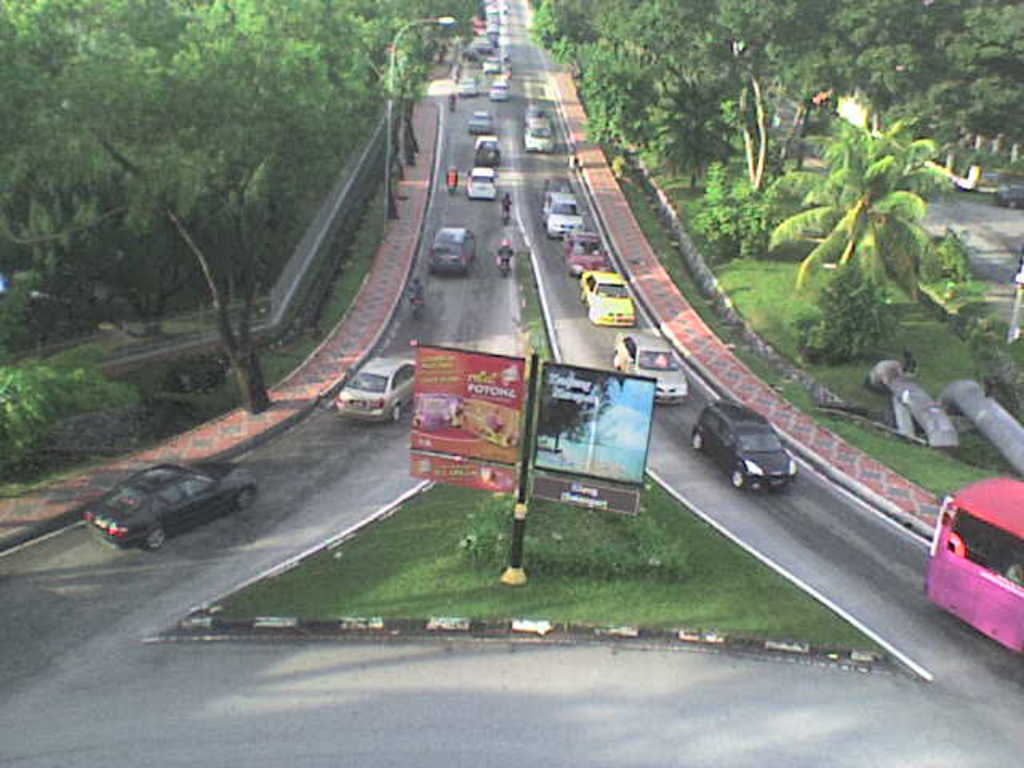Car: (84, 460, 262, 552), (689, 403, 796, 489), (336, 353, 419, 416), (614, 331, 688, 399), (580, 270, 635, 327), (425, 225, 481, 275), (563, 230, 609, 278), (539, 192, 582, 235), (462, 166, 497, 200), (523, 116, 555, 150), (475, 132, 496, 166), (489, 73, 510, 102), (468, 110, 492, 131), (457, 75, 475, 94), (480, 56, 497, 73), (476, 43, 492, 52), (472, 20, 483, 33), (487, 11, 497, 22)
